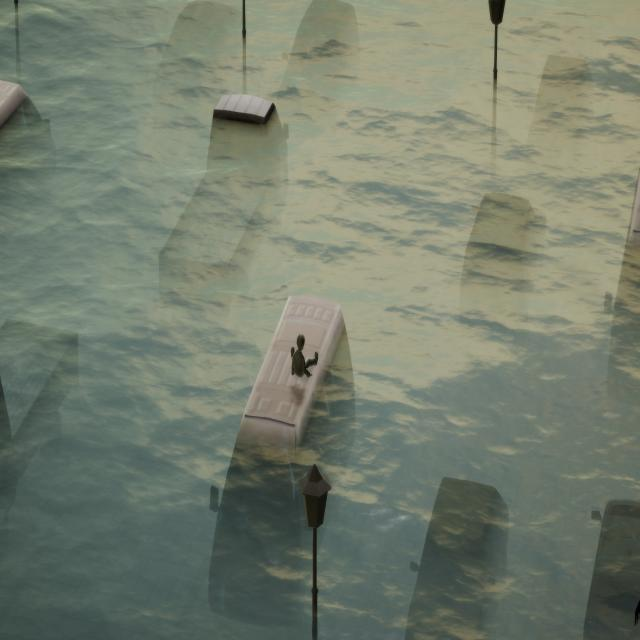Human: (280, 326, 319, 382)
